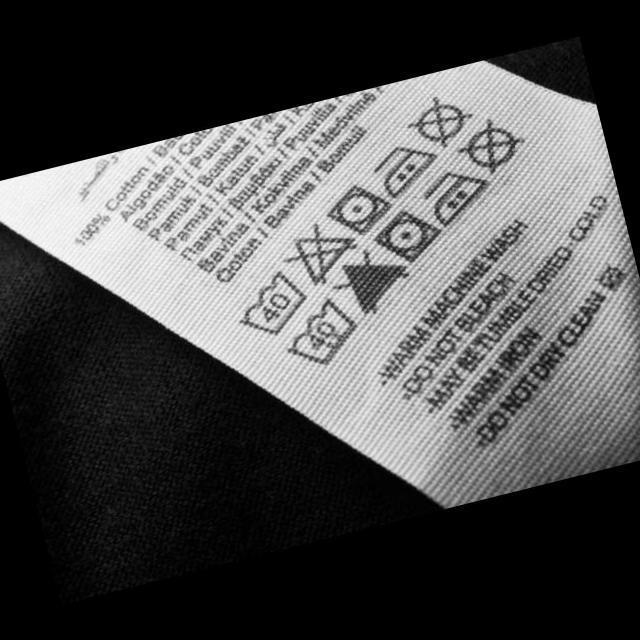40C: (272, 290, 368, 376), (224, 262, 318, 346)
DN_bleach: (321, 236, 421, 326), (274, 210, 368, 296)
DN_dry_clean: (449, 108, 535, 184), (400, 86, 481, 158)
iron_medium: (415, 160, 500, 234), (367, 134, 447, 204)
tumble_dry_low: (366, 198, 452, 274), (319, 173, 400, 244)
